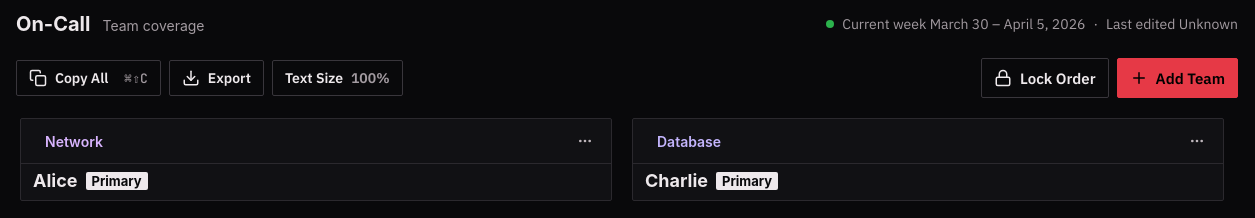
Test case: PersonnelTab — board lock button › shows correct tooltip for unlocked state
Hover over the button "Lock Order" at {"x": 1045, "y": 78}, box [981, 58, 1108, 98]
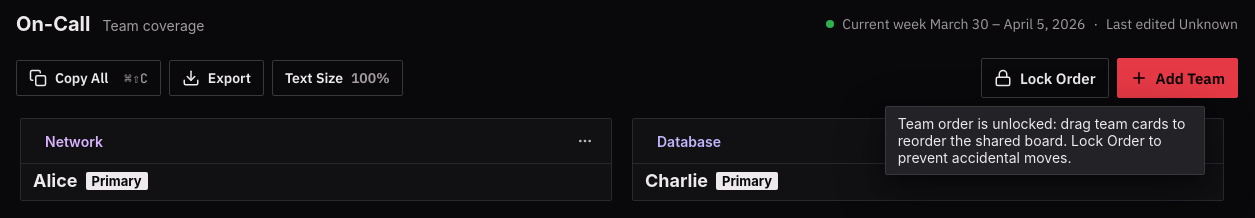
Expected: the tooltip with class "tooltip-popup" shows "Lock Order", [898, 115, 1189, 166]
